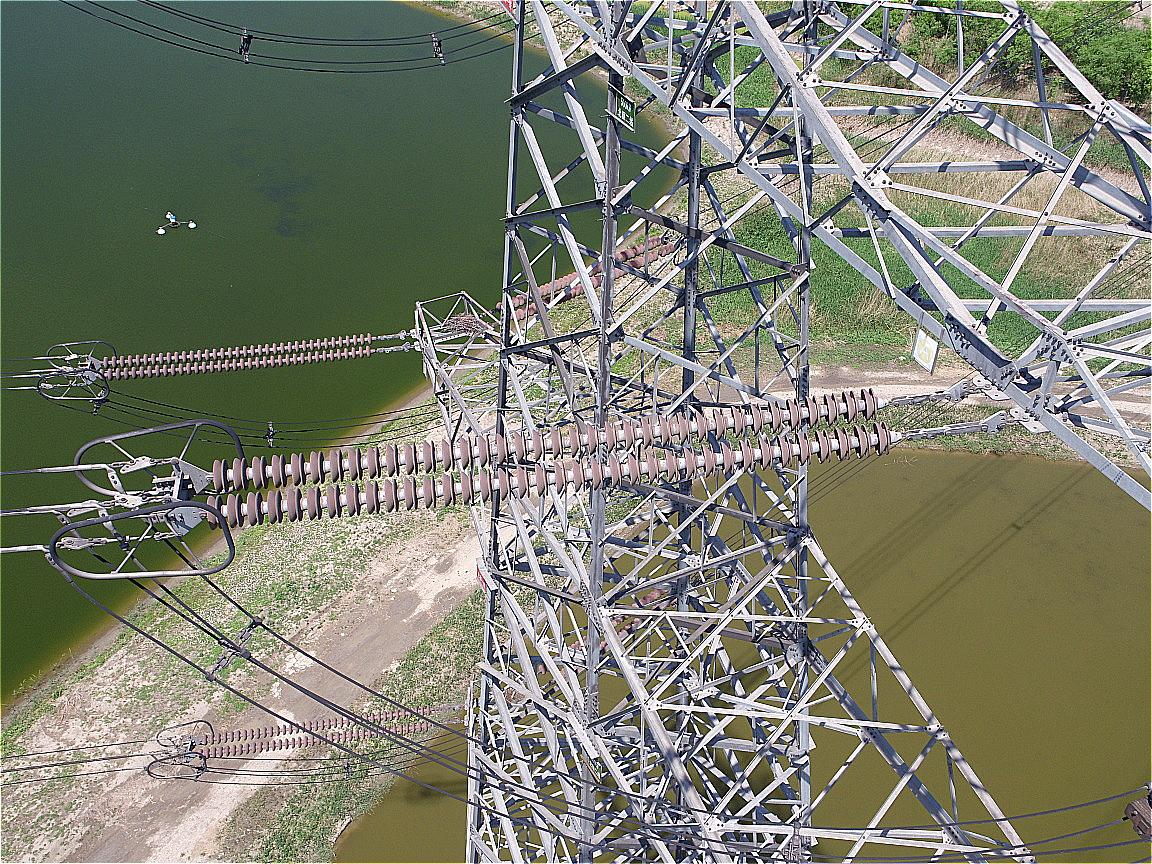insultor1: (97, 320, 381, 378)
insultor2: (191, 378, 899, 536)
